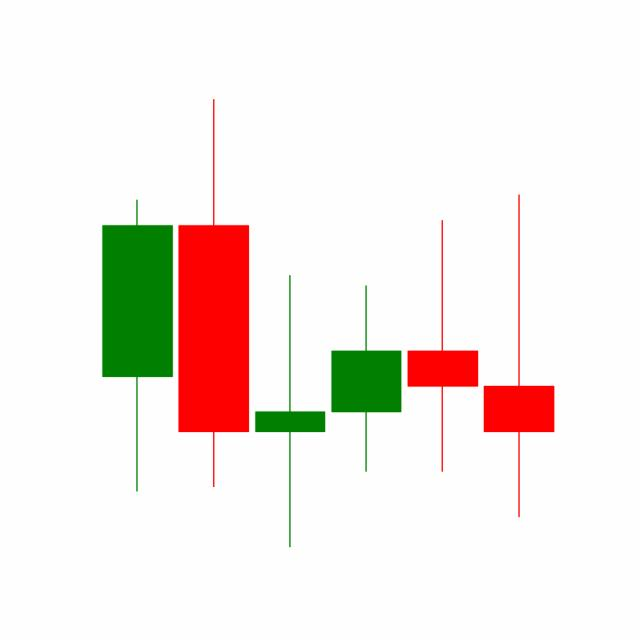Spinning Top: (403, 216, 481, 474)
